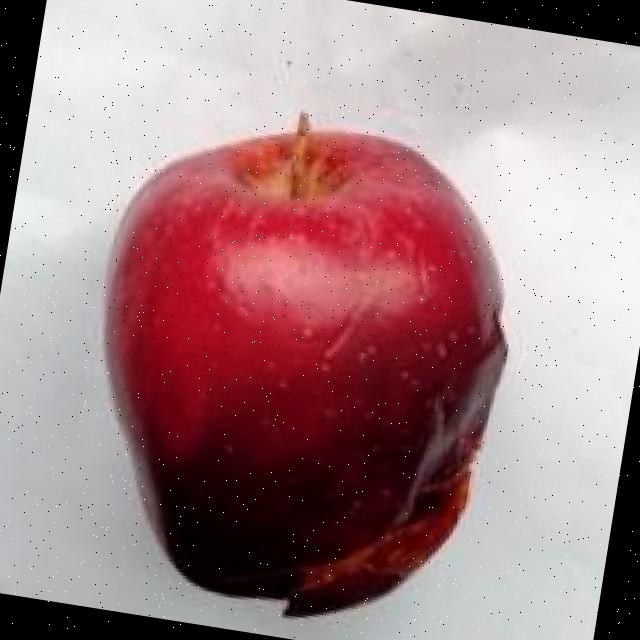rotten apple: (19, 52, 581, 640)
